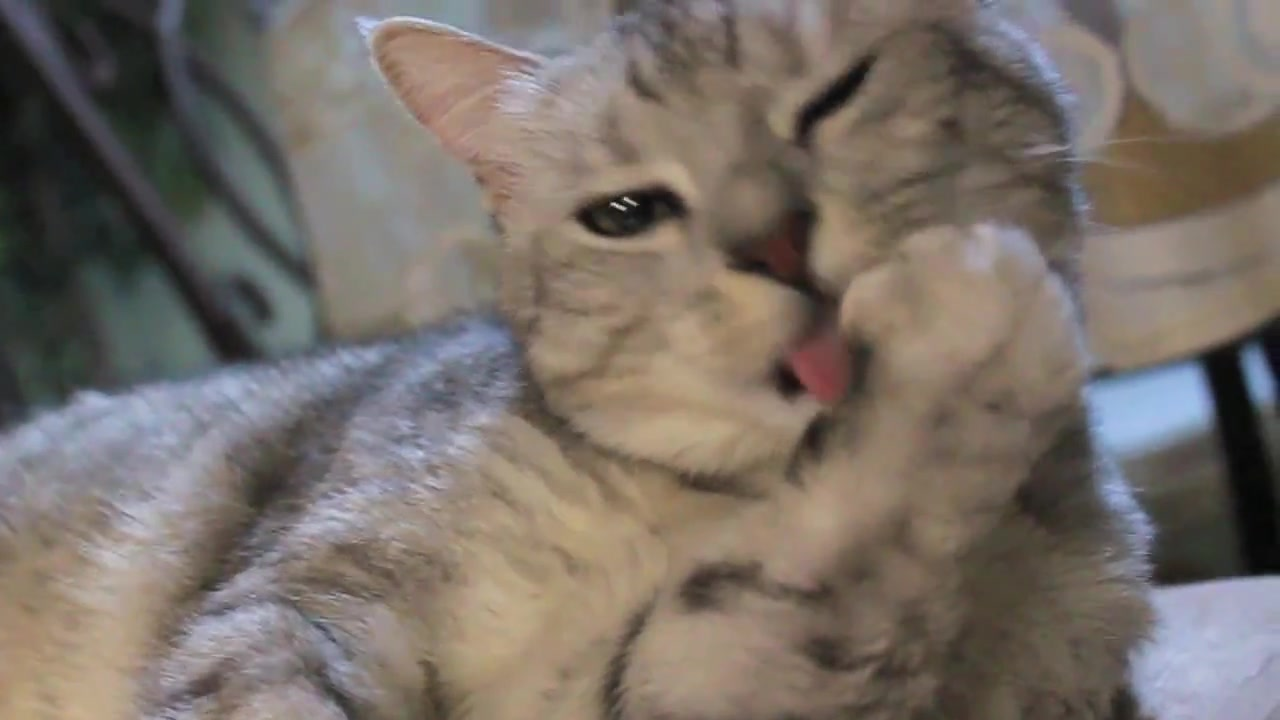cat: (1, 1, 1157, 720)
